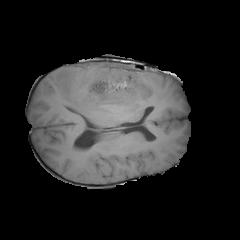glioma: (54, 67, 168, 128)
